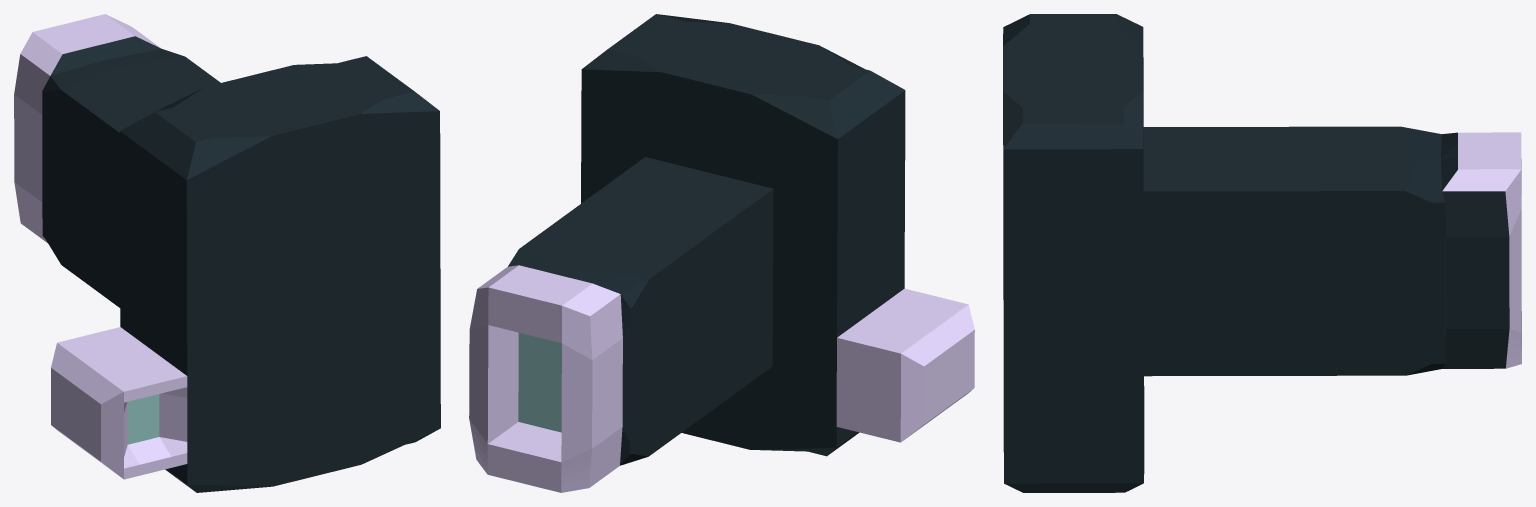
The model's file is cam4.fbx.
3 renders of one model, left to right at view 1: azimuth 30°, elevation 25°; view 2: azimuth 150°, elevation 25°; view 3: azimuth 270°, elevation 25°, orthographic. The views are drawn at different scales.
Parts seen in each view (by area): view 1: Cube; view 2: Cube; view 3: Cube.
Boxes of the visible parts, <box> form: Cube: <box>14,14,440,492</box>; Cube: <box>469,14,974,492</box>; Cube: <box>1003,14,1521,492</box>.
Bounding box in the file's own units: 266 × 262 × 338.
